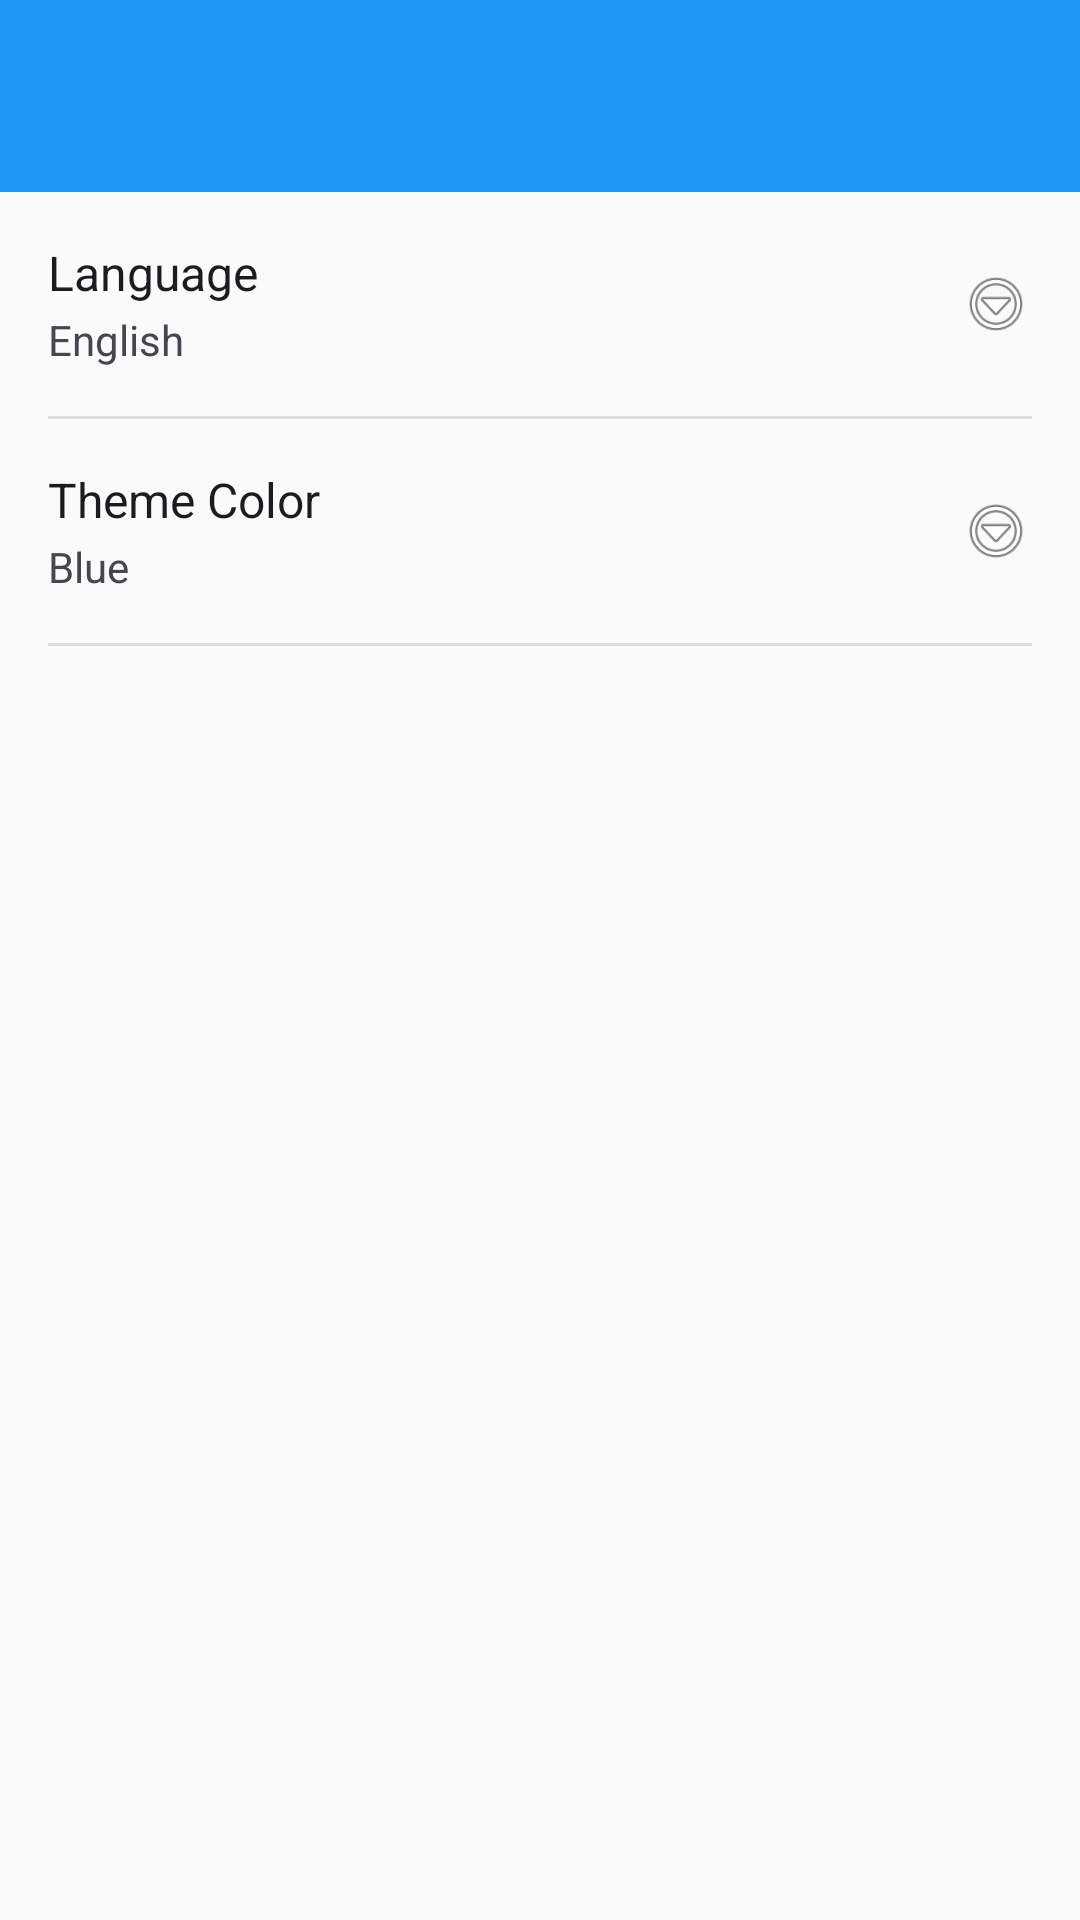

Named icons in this screenshot (1080px×1920px) and their bounding boxes, (x1, y1, x2, y2):
arrow: (969, 277, 1023, 331), (969, 504, 1023, 558)
